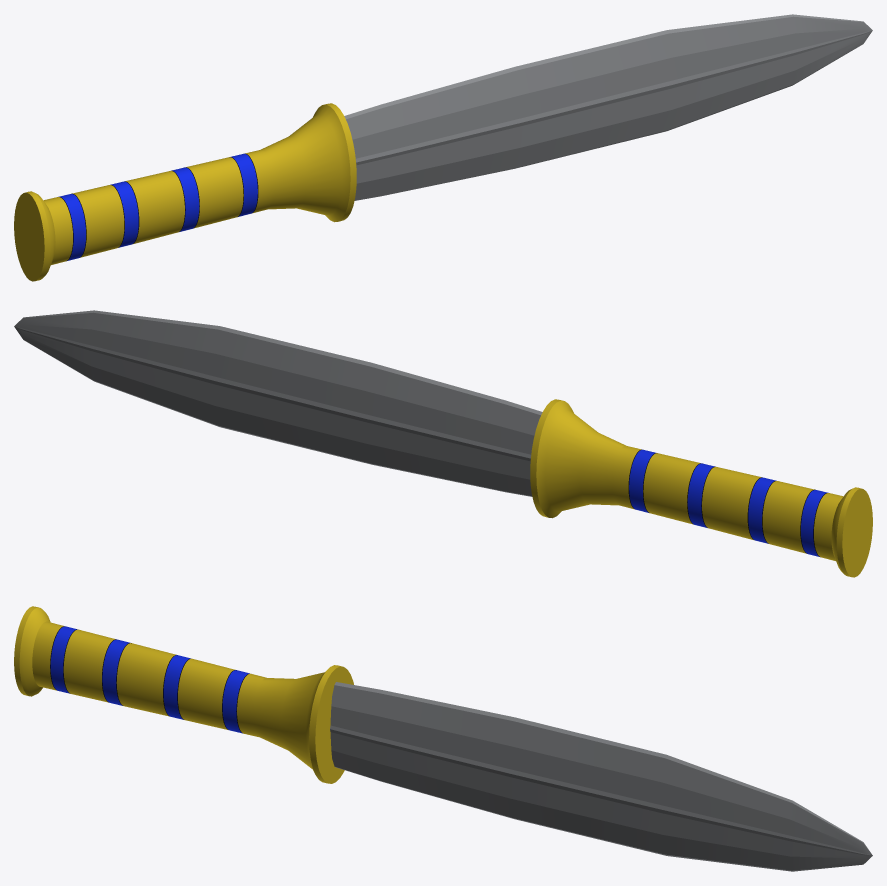
File: EgitoFaca_01V.fbx
The picture shows the model from 3 angles, top to bottom: view 1: azimuth 30°, elevation 25°; view 2: azimuth 150°, elevation 25°; view 3: azimuth 330°, elevation 25°; orthographic projection.
Visible parts, largest first — view 1: Lámina, Cabo; view 2: Lámina, Cabo; view 3: Lámina, Cabo.
Part boxes in pixels (x1,y1,x2,y2): Lámina: (344, 14, 872, 200); Cabo: (14, 103, 356, 281); Lámina: (14, 310, 542, 496); Cabo: (530, 399, 872, 577); Lámina: (330, 682, 872, 871); Cabo: (14, 606, 353, 783).
Bounding box in the file's own units: 450 × 58.01 × 38.37.
